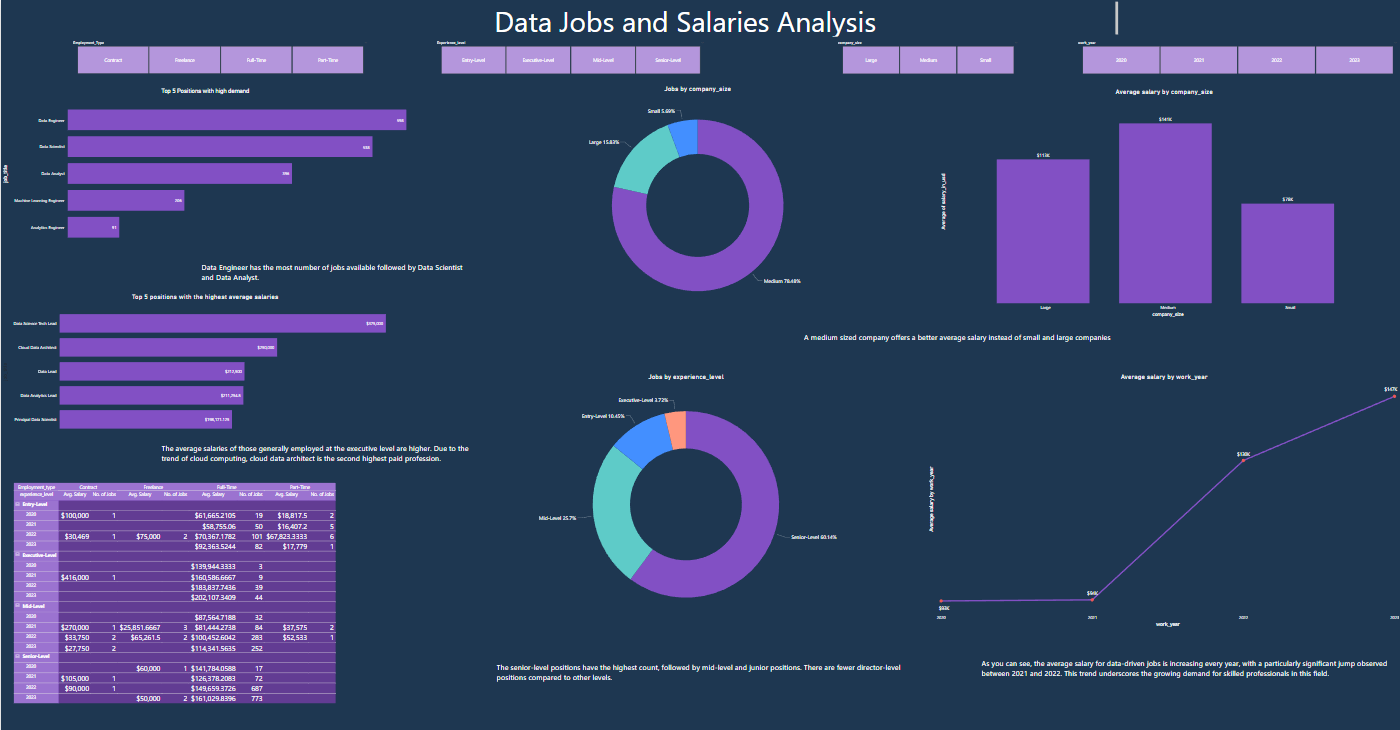

This screenshot's page, from the dashboard's own definition file:
{"tool":"powerbi","page":{"name":"Page 1","canvas":[4000,2160],"ordinal":0},"visuals":[{"type":"barChart","title":"Top 5 Positions with high demand","fields":{"Category":["ds_salaries.job_title"],"Y":["CountNonNull(ds_salaries.job_title)"]},"box":[0,250,1166.7,466.7],"z":0},{"type":"donutChart","title":"Jobs by experience_level","fields":{"Category":["ds_salaries.experience_level"],"Y":["CountNonNull(ds_salaries.experience_level)"]},"box":[1335.7,1064.3,1242.9,732.1],"z":1000},{"type":"pivotTable","fields":{"Rows":["ds_salaries.experience_level","ds_salaries.work_year"],"Columns":["ds_salaries.employment_type"],"Values":["Avg(ds_salaries.salary_in_usd)","CountNonNull(ds_salaries.experience_level)"]},"box":[33.3,1373.3,936.7,643.3],"z":2000},{"type":"donutChart","title":"Jobs by company_size","fields":{"Category":["ds_salaries.company_size"],"Y":["CountNonNull(ds_salaries.company_size)"]},"box":[1336.7,243.3,1310,666.7],"z":3000},{"type":"columnChart","title":"Average salary by company_size","fields":{"Category":["ds_salaries.company_size"],"Y":["Avg(ds_salaries.salary_in_usd)"]},"box":[2680,250,1290,660],"z":4000},{"type":"barChart","title":"Top 5 positions with the highest average salaries","fields":{"Category":["ds_salaries.job_title"],"Y":["Avg(ds_salaries.salary_in_usd)"]},"box":[0,836.7,1166.7,423.3],"z":5000},{"type":"lineChart","title":"Average salary by work_year","fields":{"Category":["ds_salaries.work_year"],"Y":["Avg(ds_salaries.salary_in_usd)"]},"box":[2646.7,1063.3,1353.3,733.3],"z":6000},{"type":"textbox","box":[720,0,2475,110],"z":7000},{"type":"slicer","fields":{"Values":["ds_salaries.work_year"]},"box":[3063.3,110,936.7,106.7],"z":8000},{"type":"slicer","fields":{"Values":["ds_salaries.company_size"]},"box":[2378.6,110.7,539.3,107.1],"z":9000},{"type":"slicer","fields":{"Values":["ds_salaries.experience_level"]},"box":[1232.1,110.7,789.3,107.1],"z":10000},{"type":"textbox","box":[567.9,742.9,767.9,67.9],"z":11000},{"type":"textbox","box":[453.6,1260.7,914.3,85.7],"z":12000},{"type":"textbox","box":[2796.7,1876.7,1173.3,83.3],"z":13000},{"type":"textbox","box":[1410,1886.7,1166.7,73.3],"z":14000},{"type":"textbox","box":[2290,943.3,893.3,63.3],"z":15000},{"type":"slicer","fields":{"Values":["ds_salaries.employment_type"]},"box":[193.9,109.1,866.7,106.1],"z":16000}]}

Visuals, with their boxes on the page's 4000x2160 design canvas (x1, y1, x2, y2). These are canvas units, not pixel positions in the 1400x730 screenshot, which may show the page scaled, cropped or inside an application window:
"Top 5 Positions with high demand" barChart: BBox(0, 250, 1167, 717)
"Jobs by experience_level" donutChart: BBox(1336, 1064, 2579, 1796)
pivotTable - ds_salaries.experience_level x ds_salaries.work_year: BBox(33, 1373, 970, 2017)
"Jobs by company_size" donutChart: BBox(1337, 243, 2647, 910)
"Average salary by company_size" columnChart: BBox(2680, 250, 3970, 910)
"Top 5 positions with the highest average salaries" barChart: BBox(0, 837, 1167, 1260)
"Average salary by work_year" lineChart: BBox(2647, 1063, 4000, 1797)
textbox: BBox(720, 0, 3195, 110)
slicer - ds_salaries.work_year: BBox(3063, 110, 4000, 217)
slicer - ds_salaries.company_size: BBox(2379, 111, 2918, 218)
slicer - ds_salaries.experience_level: BBox(1232, 111, 2021, 218)
textbox: BBox(568, 743, 1336, 811)
textbox: BBox(454, 1261, 1368, 1346)
textbox: BBox(2797, 1877, 3970, 1960)
textbox: BBox(1410, 1887, 2577, 1960)
textbox: BBox(2290, 943, 3183, 1007)
slicer - ds_salaries.employment_type: BBox(194, 109, 1061, 215)
